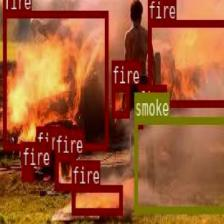fire: (2, 10, 108, 148), (147, 19, 224, 105), (71, 184, 122, 214), (55, 154, 75, 188), (111, 84, 129, 116), (22, 166, 33, 180), (138, 108, 141, 128), (36, 150, 43, 158)
smoke: (133, 116, 224, 212)
